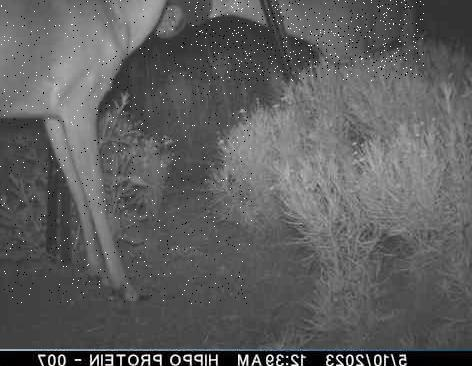Deer: (0, 0, 252, 304), (194, 0, 424, 81)
